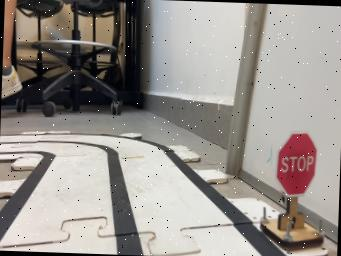stop: (260, 131, 323, 247), (260, 131, 323, 247), (260, 131, 323, 247), (260, 131, 323, 247), (260, 131, 323, 247), (260, 131, 323, 247)
street: (0, 134, 287, 256), (0, 134, 287, 256), (0, 134, 287, 256), (0, 134, 287, 256), (0, 134, 287, 256), (0, 134, 287, 256)
